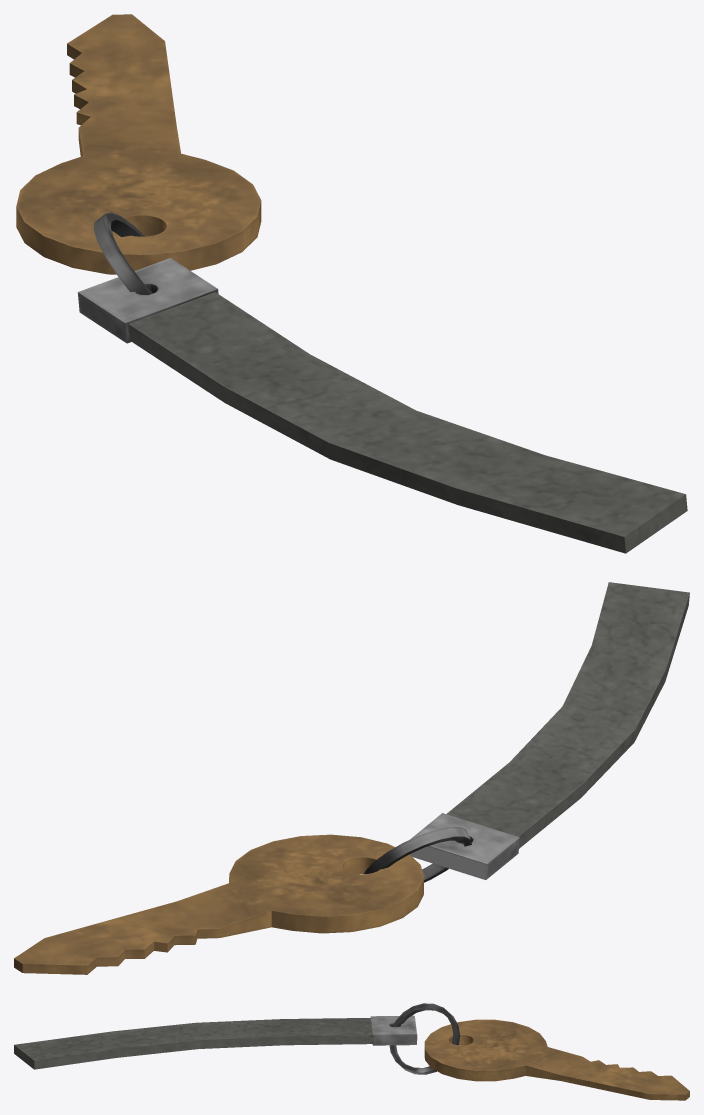
Rendered from SM_Key.fbx.
The picture shows the model from 3 angles, top to bottom: view 1: azimuth 30°, elevation 25°; view 2: azimuth 150°, elevation 25°; view 3: azimuth 270°, elevation 25°; orthographic projection. The views are drawn at different scales.
Parts seen in each view (by area): view 1: SM_Key; view 2: SM_Key; view 3: SM_Key.
Part boxes in pixels (bbox=[...]): SM_Key: bbox=[16, 14, 687, 553]; SM_Key: bbox=[14, 582, 689, 974]; SM_Key: bbox=[14, 1003, 689, 1100].
Size of the model in its own units: 5.12 by 1.64 by 18.45.
